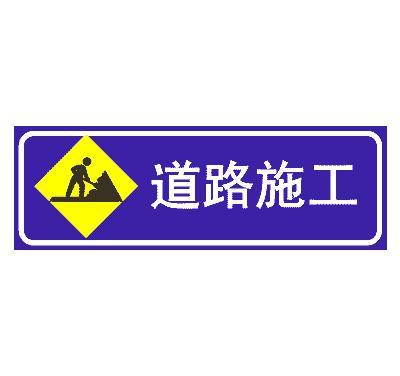sign: (17, 126, 384, 247)
